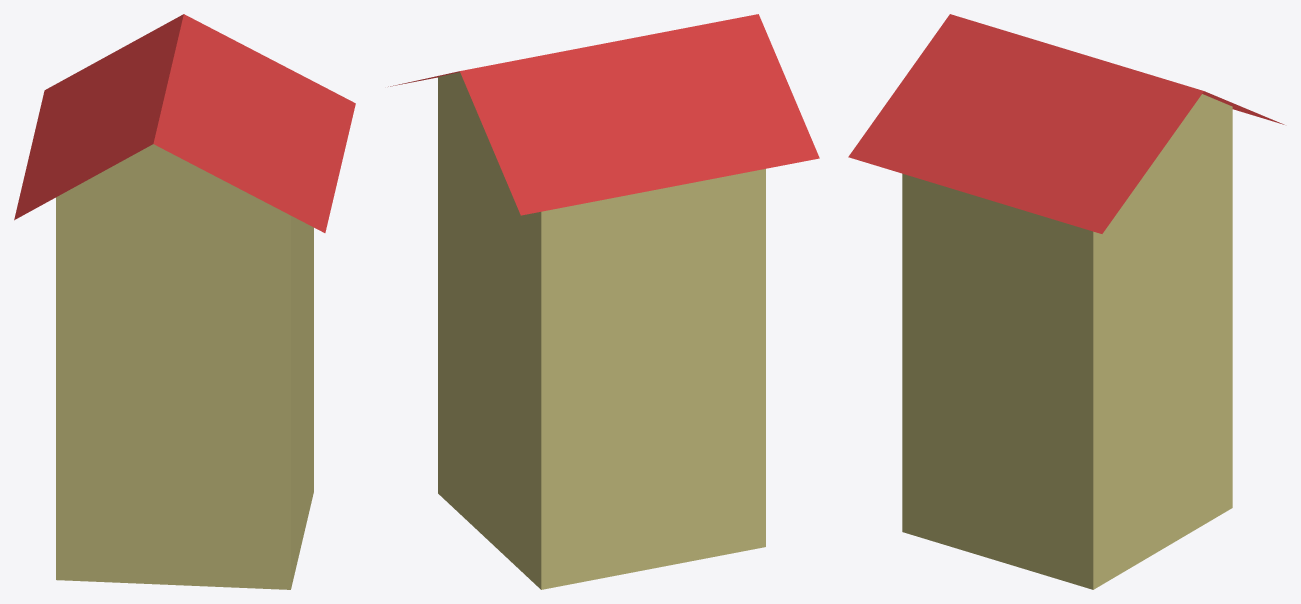
The picture shows the model from 3 angles, left to right: view 1: azimuth 30°, elevation 25°; view 2: azimuth 150°, elevation 25°; view 3: azimuth 270°, elevation 25°; orthographic projection. The views are drawn at different scales.
Bounding box in the file's own units: 5.66 × 5.65 × 6.56.
